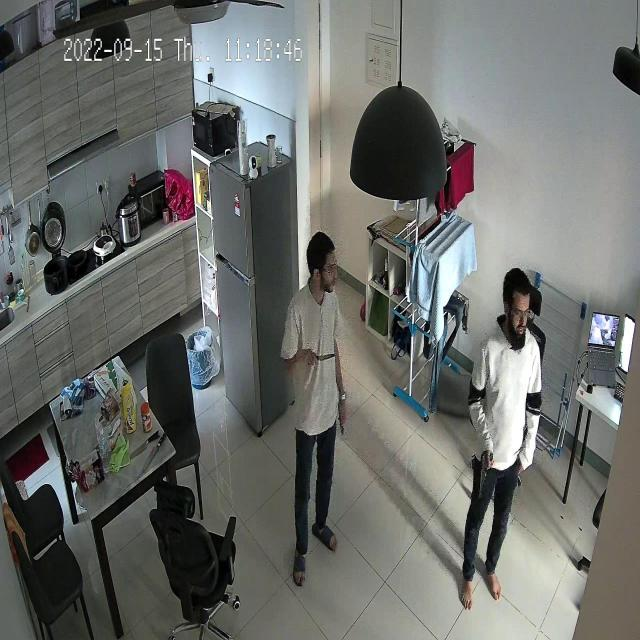Gun: (464, 433, 498, 512), (304, 337, 348, 370)
